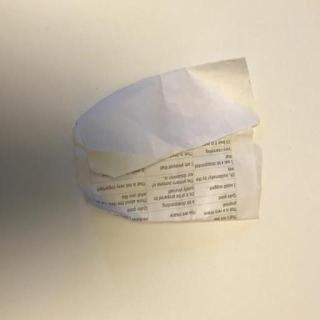Anorganik: (68, 55, 266, 226)
